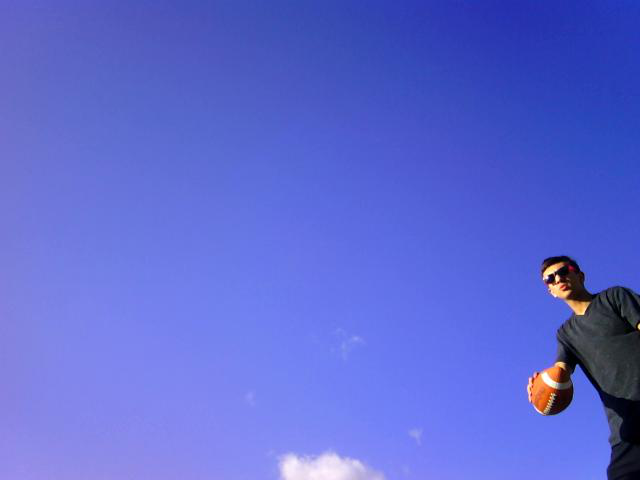football: (524, 360, 576, 430)
